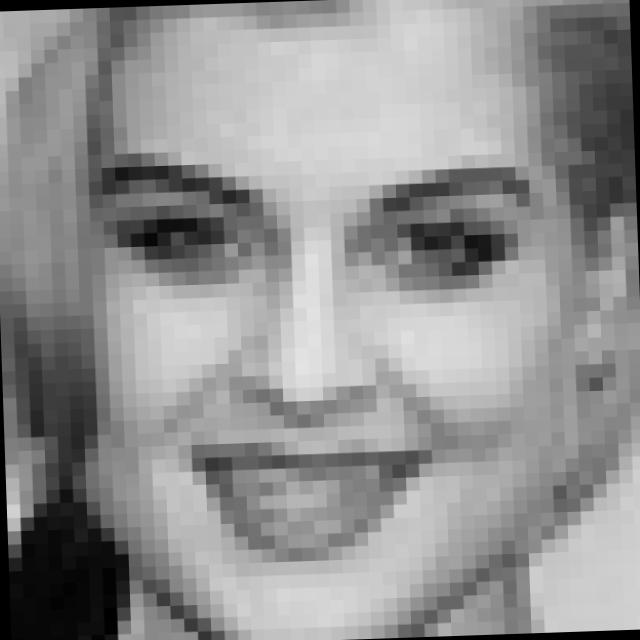happy: (88, 142, 550, 576)
